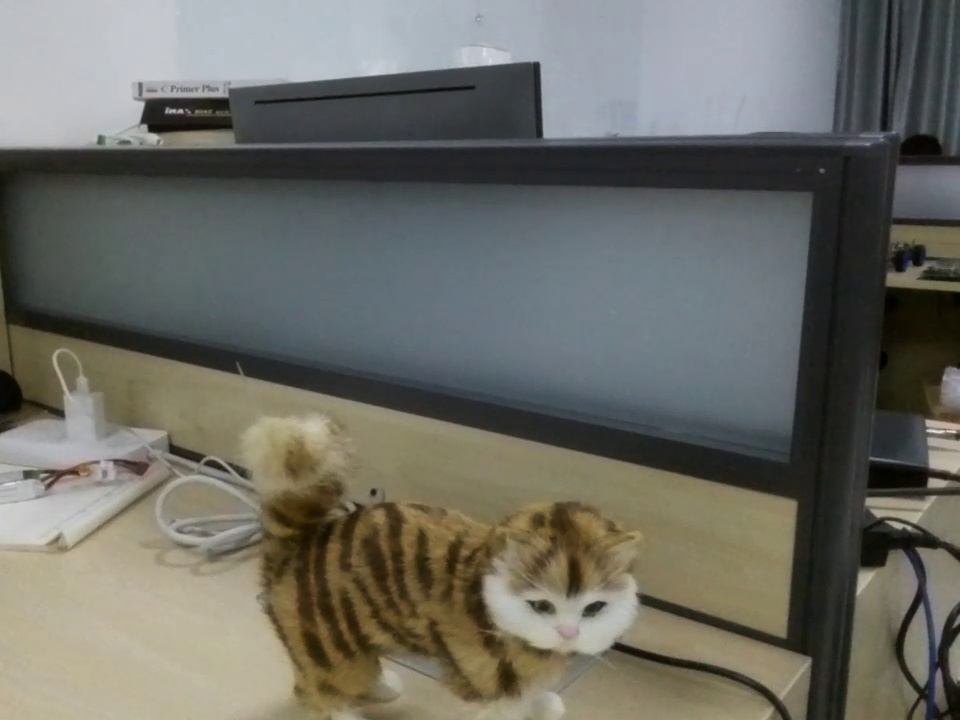cat: (218, 414, 663, 719)
